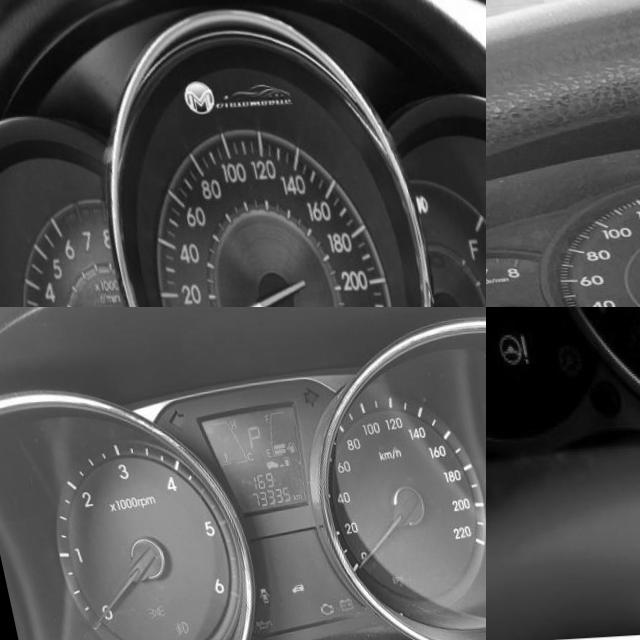Doors: (240, 589, 254, 608)
FrontFogLight: (155, 622, 171, 638)
SideLamp: (128, 605, 148, 620)
